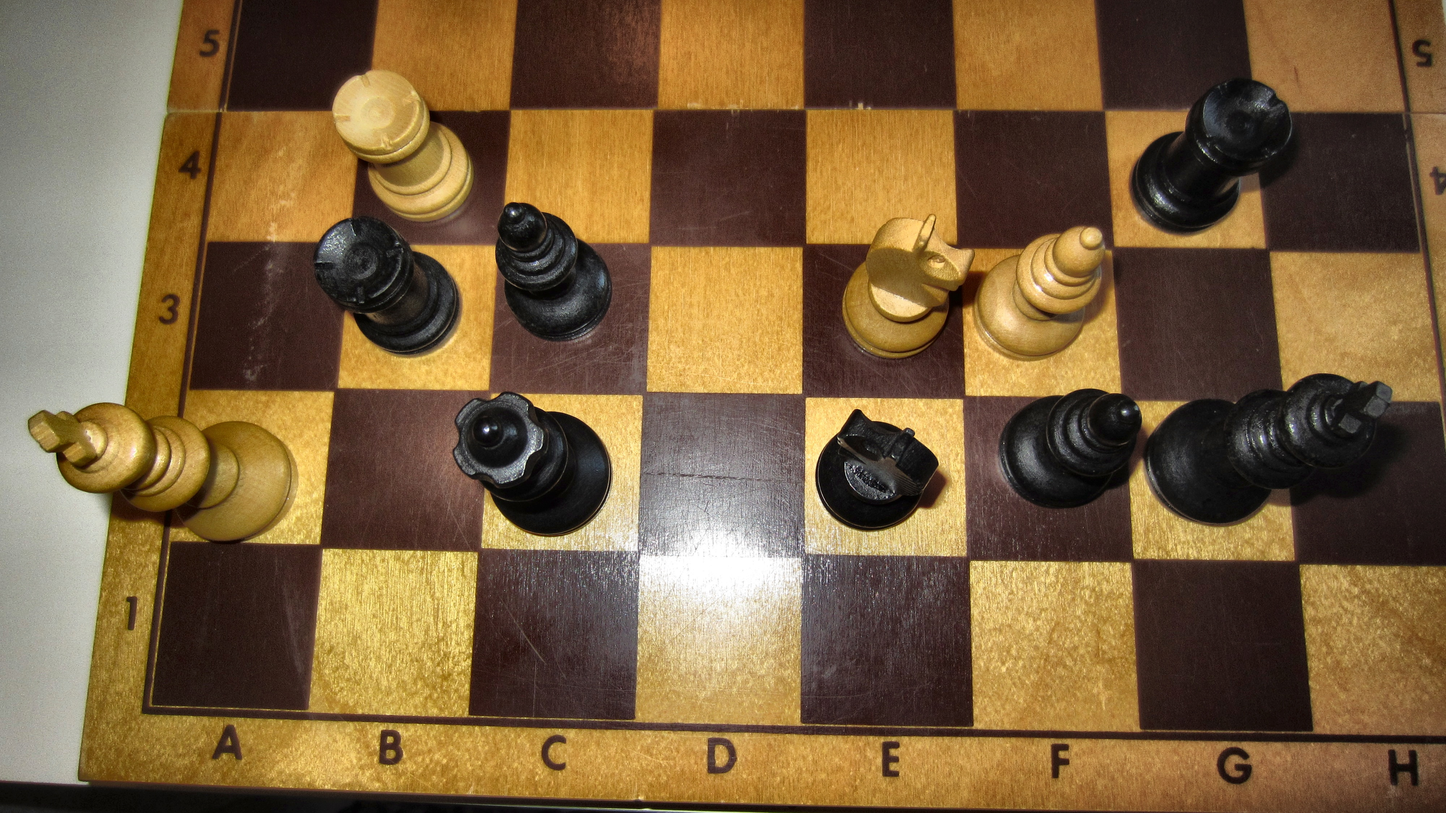black-bishop: (997, 387, 1143, 508), (493, 200, 614, 344)
black-king: (1143, 373, 1394, 526)
black-knight: (814, 406, 941, 533)
black-queen: (450, 391, 613, 539)
black-rook: (1128, 77, 1295, 235), (312, 216, 462, 357)
white-bishop: (972, 224, 1107, 362)
white-king: (25, 400, 301, 546)
white-knight: (840, 213, 976, 361)
white-rook: (330, 69, 475, 223)
